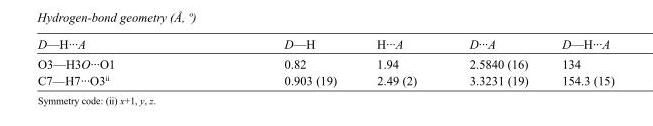table: (36, 37, 613, 86)
table column: (36, 37, 198, 86), (198, 37, 356, 86), (442, 37, 544, 86), (356, 37, 442, 86), (544, 37, 613, 86)
table row: (36, 53, 613, 72), (36, 37, 613, 53), (36, 72, 613, 86)
